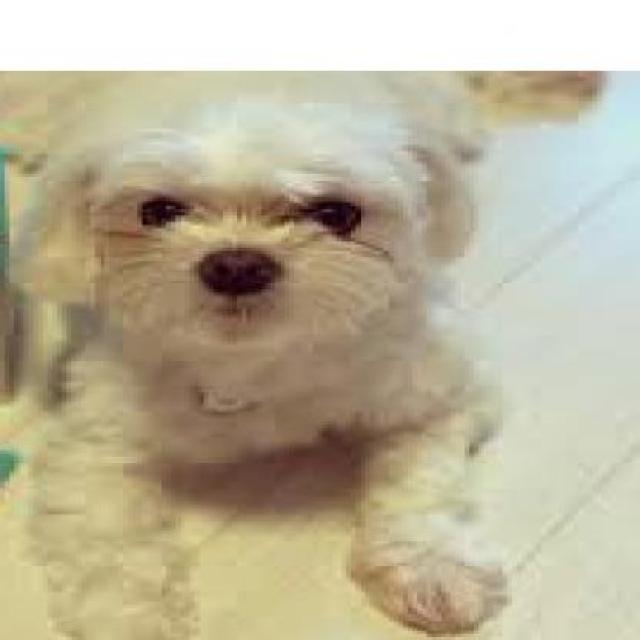Dog: (0, 86, 517, 637)
